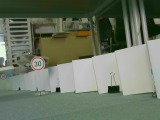speed_30: (29, 55, 45, 70)
